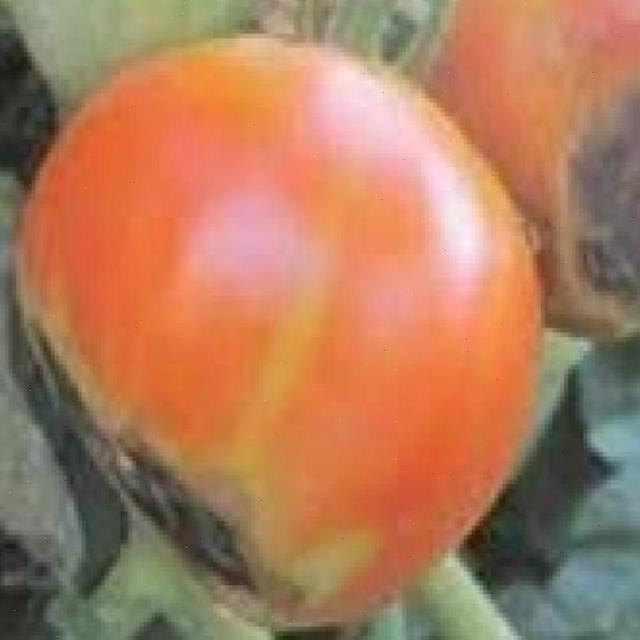Blossom End Rot Fruit: (48, 128, 403, 301)
